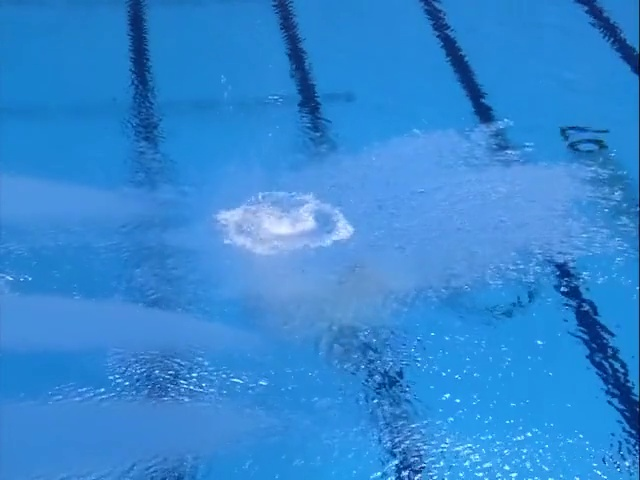splash: (219, 191, 352, 258)
